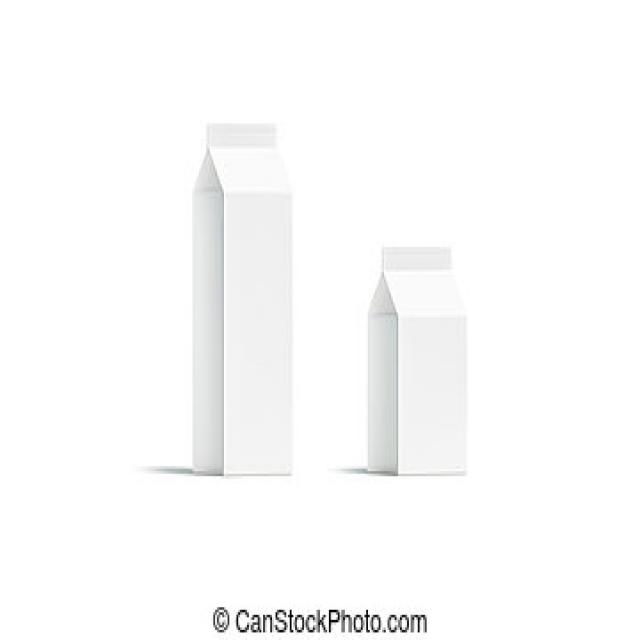non_white_jug: (157, 83, 305, 484), (357, 228, 478, 480)
